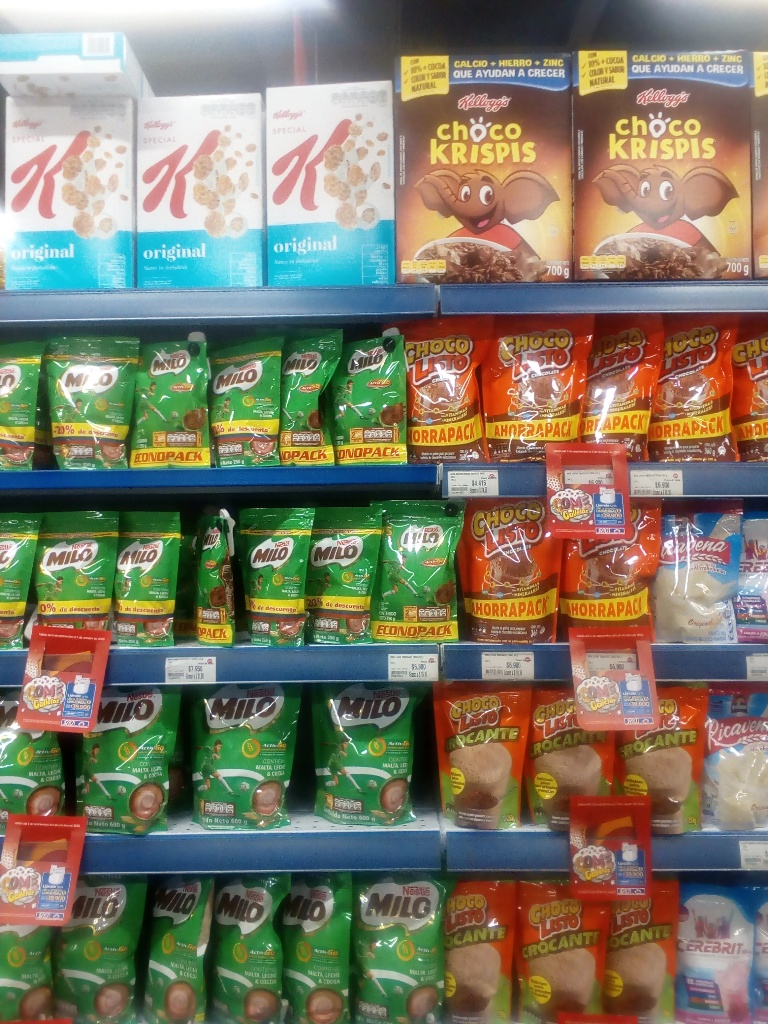COL0170102DYP25000: (430, 681, 526, 831)
COL0170103DYP36000: (404, 320, 495, 465)
COL0170203DYP25000: (0, 343, 42, 471)
